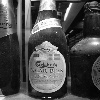beer: (26, 1, 68, 98)
